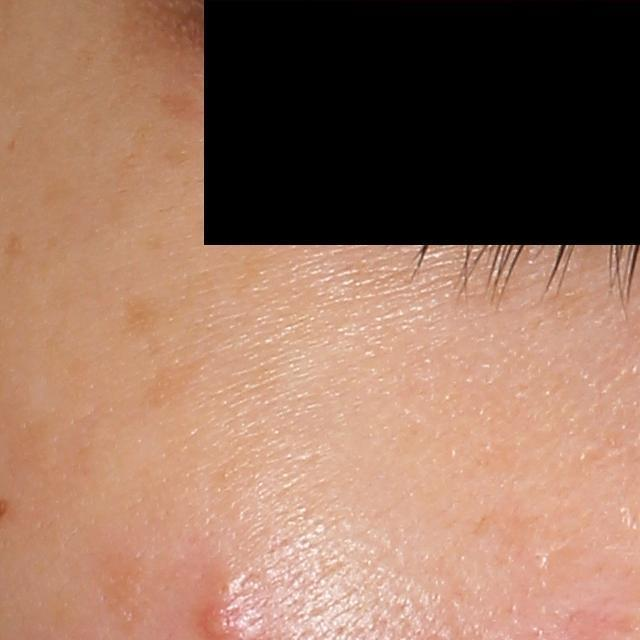melasma: (135, 348, 204, 416), (113, 122, 161, 182), (115, 296, 170, 346), (146, 91, 201, 125), (164, 140, 200, 170)
